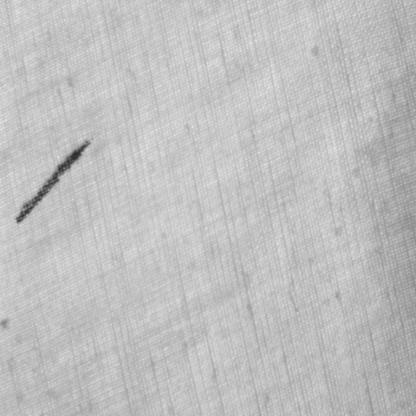oil spot: (13, 135, 92, 224)
